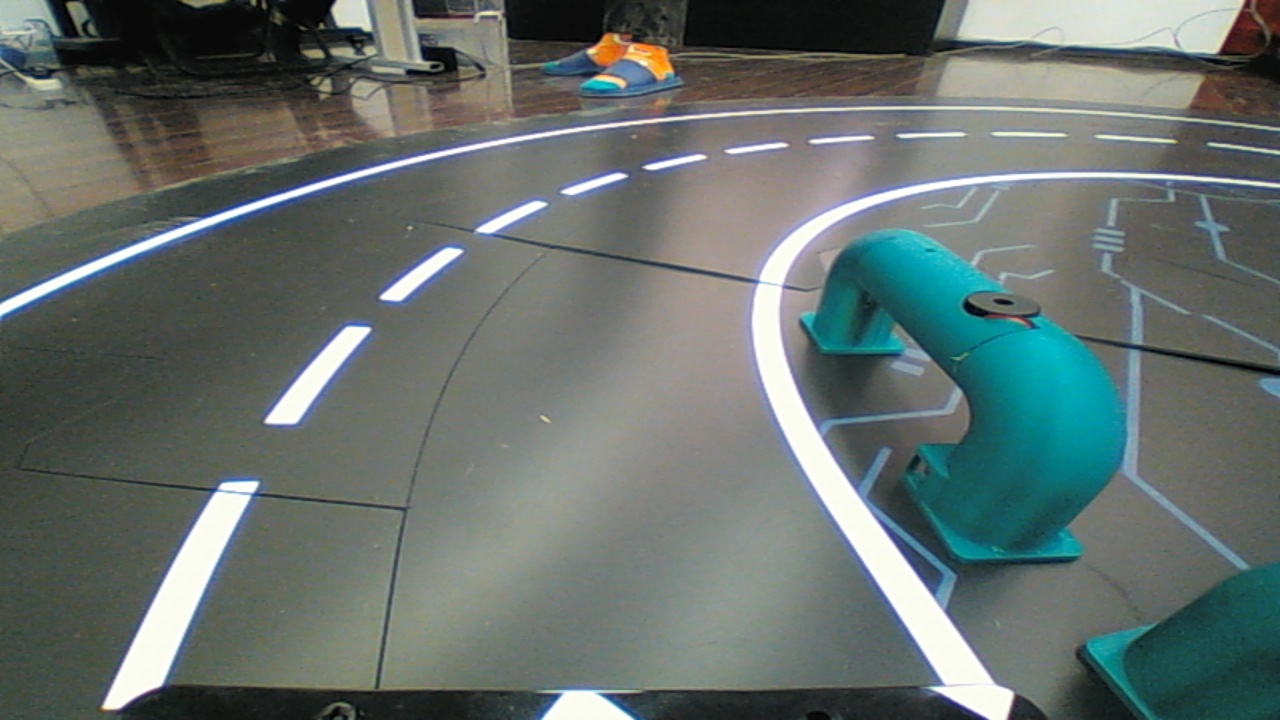Pedestrian crossing: (778, 210, 1139, 576)
